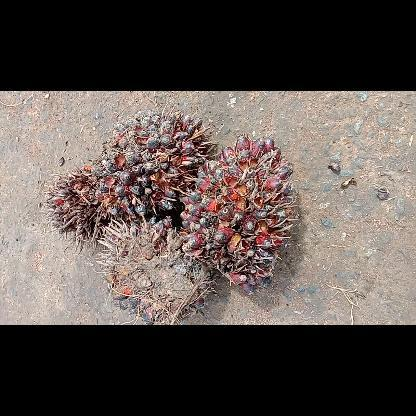TBS abnormal: (180, 132, 298, 294), (90, 103, 212, 215), (96, 214, 216, 324), (40, 164, 142, 250)
